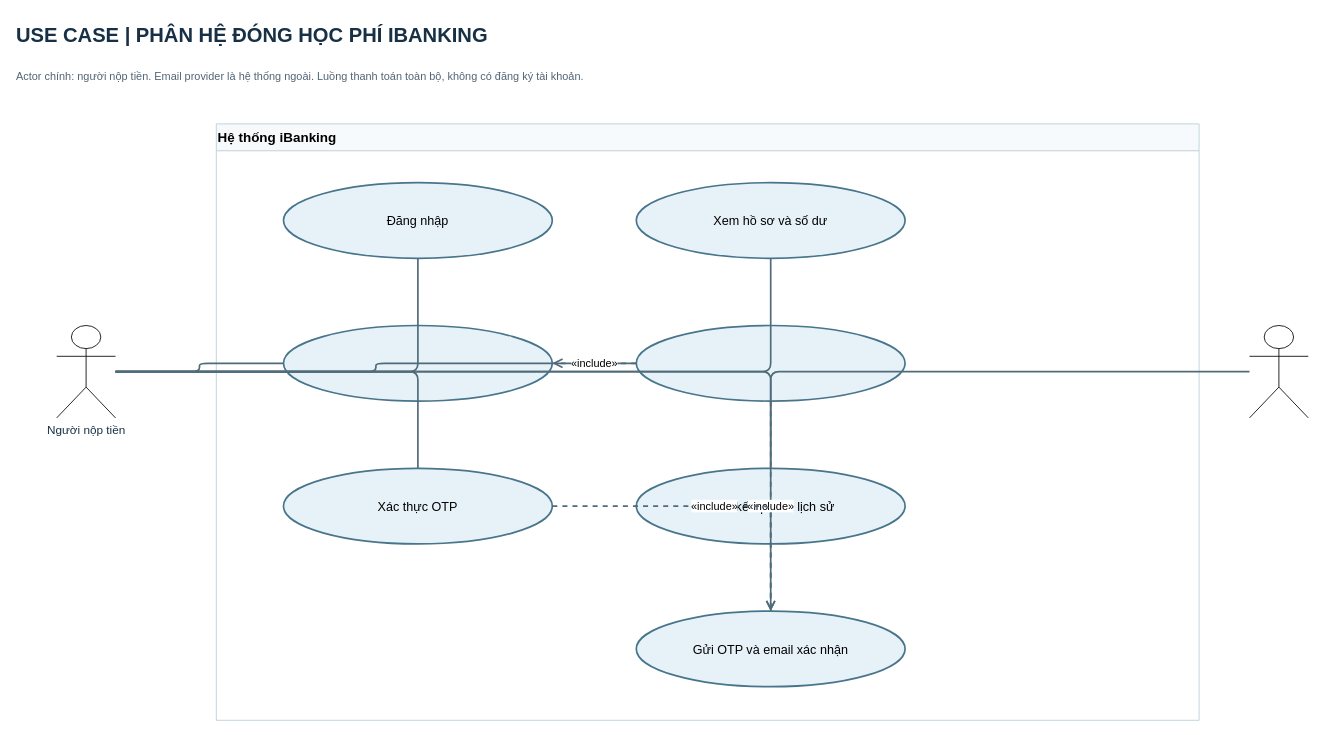
The diagram is 1331 pixels wide and 735 high, and some of its shapes have lost their labels. The shapes that lost their labels are listed below. From the top down, each one's box as (x1, y1, x2, y2) in pixels, then its label:
(282, 324, 553, 402): Tra cứu học phí
(635, 324, 906, 402): Tạo giao dịch thanh toán
(1249, 325, 1308, 418): Email provider
